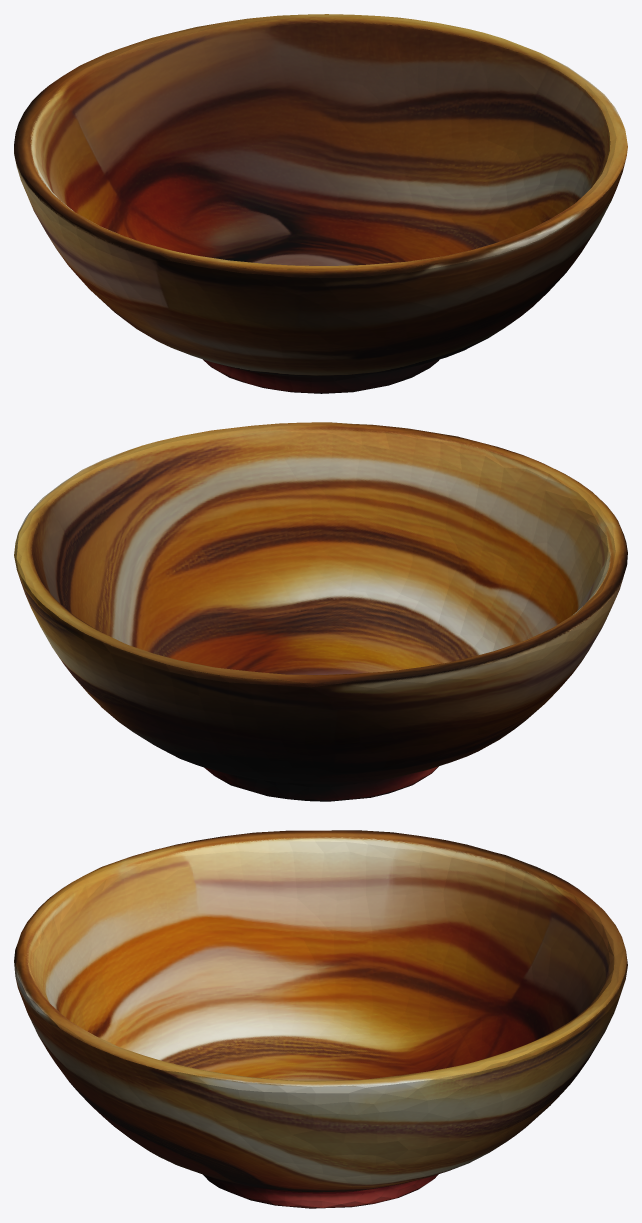
File: ceramic-mixing-bowl-3d.jpeg.glb
The picture shows the model from 3 angles, top to bottom: view 1: azimuth 30°, elevation 25°; view 2: azimuth 150°, elevation 25°; view 3: azimuth 270°, elevation 25°; orthographic projection.
Visible parts, largest first — view 1: world; view 2: world; view 3: world.
Part boxes in pixels (box(x1,y1,x2,y2)): world: box(14, 14, 627, 393); world: box(14, 422, 627, 801); world: box(14, 830, 627, 1208).
Bounding box in the file's own units: 0.9988 × 0.3594 × 0.9988.
Materials: 1 (1 with a texture image).
